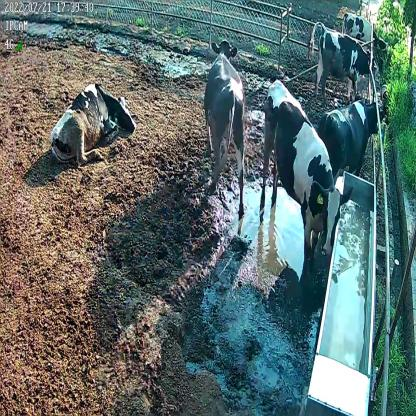cow: (260, 76, 353, 268), (202, 35, 248, 218), (48, 78, 137, 168), (320, 94, 387, 189), (307, 18, 379, 102), (342, 10, 389, 53)
